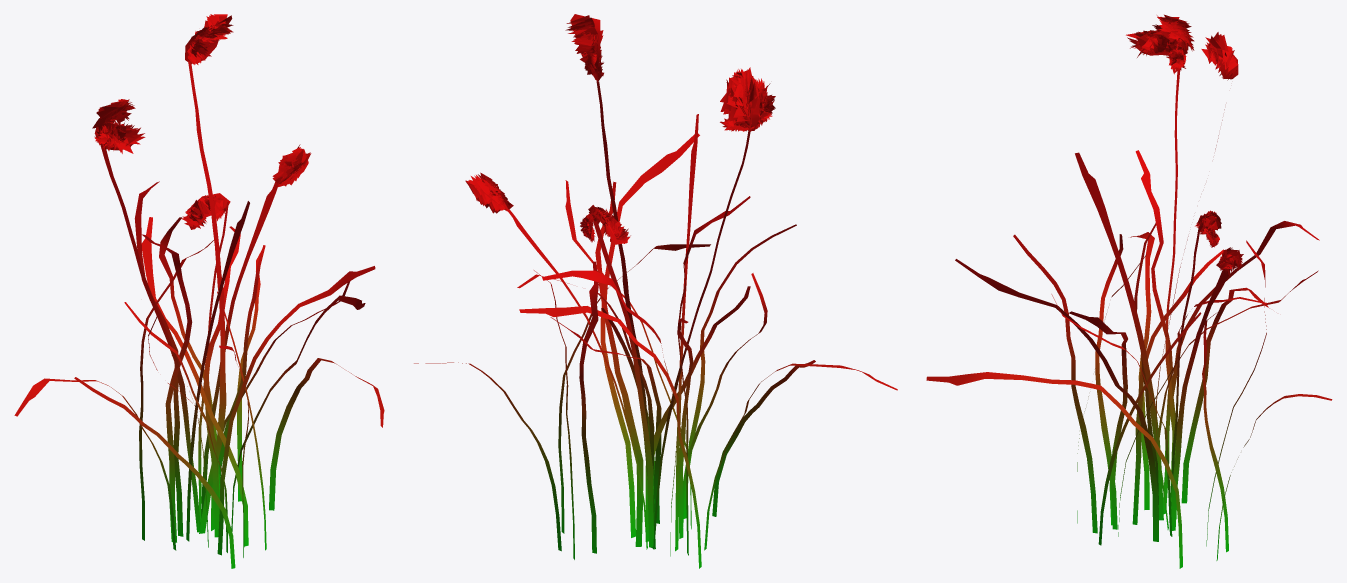
File: Cotton Grass_LOD1_Var5_wlykecdia.fbx
The picture shows the model from 3 angles, left to right: view 1: azimuth 30°, elevation 25°; view 2: azimuth 150°, elevation 25°; view 3: azimuth 270°, elevation 25°; orthographic projection. The views are drawn at different scales.
Visible parts, largest first — view 1: _7mma_Var5_LOD1; view 2: _7mma_Var5_LOD1; view 3: _7mma_Var5_LOD1.
Boxes of the visible parts, box(x1,y1,x2,y2) form: _7mma_Var5_LOD1: box(14, 14, 384, 568); _7mma_Var5_LOD1: box(414, 14, 897, 568); _7mma_Var5_LOD1: box(926, 14, 1332, 568).
Bounding box in the file's own units: 21.24 × 29.04 × 20.74.
